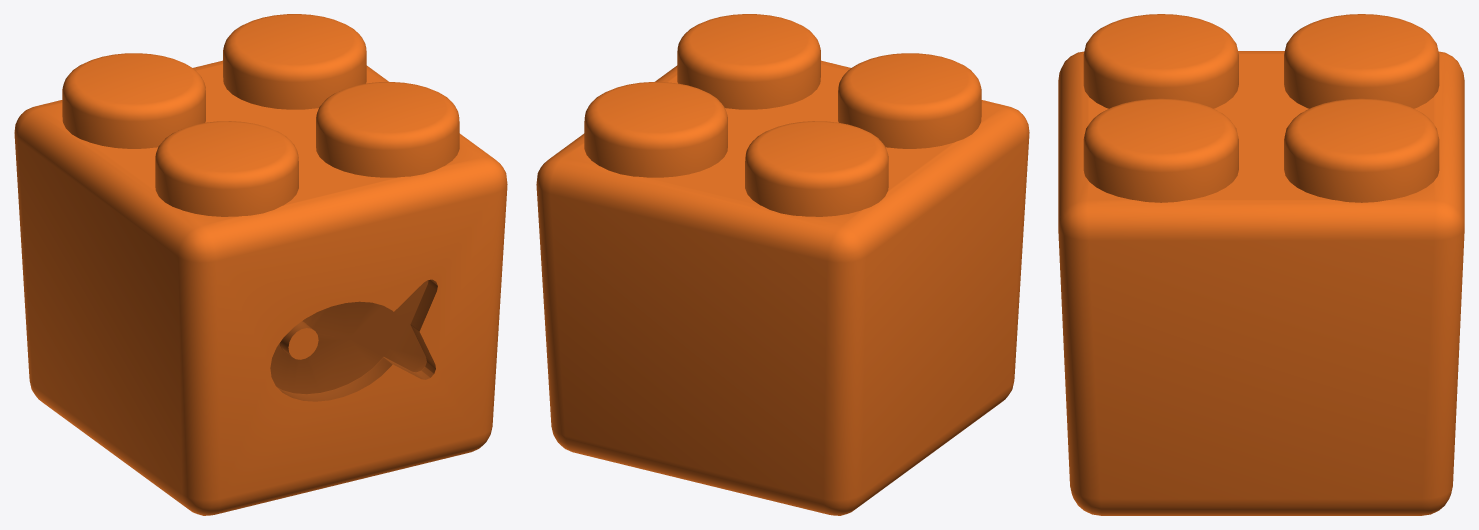
Rendered from Block_Fish.fbx.
The picture shows the model from 3 angles, left to right: view 1: azimuth 30°, elevation 25°; view 2: azimuth 150°, elevation 25°; view 3: azimuth 270°, elevation 25°; orthographic projection. The views are drawn at different scales.
Parts seen in each view (by area): view 1: Block_Fish; view 2: Block_Fish; view 3: Block_Fish.
Boxes of the visible parts, x1,y1,x2,y2 form: Block_Fish: (14, 14, 507, 515); Block_Fish: (536, 14, 1029, 515); Block_Fish: (1058, 14, 1464, 515).
Size of the model in its own units: 99.39 by 97.5 by 99.39.
